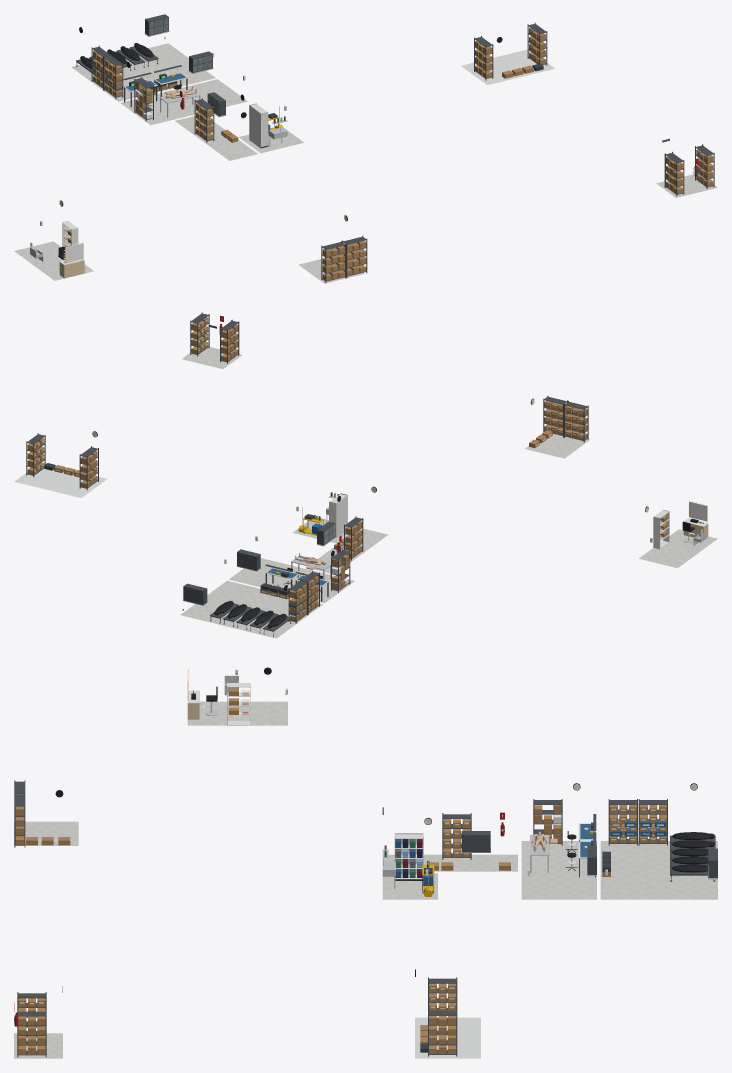
The model's file is 30_n2_servicios_y_bodegas.glb.
The picture shows the model from 3 angles, top to bottom: view 1: azimuth 30°, elevation 25°; view 2: azimuth 150°, elevation 25°; view 3: azimuth 270°, elevation 25°; orthographic projection. The views are drawn at different scales.
Visible parts, largest first — view 1: anaquel_rotulado (×9), piso · Bodega de simuladores, piso · Taller de ingeniería biomédica · mantenimiento de sim, piso · Bodega de simulación háptica, piso · Bodega y carga de cascos, piso · Moulage y preparación de escenarios, estacion_carga (×2), anaquel_uniformes, tocador_moulage, anaquel_metalico, piso · Ropería, séptico e intendencia, piso · Bodega de UCI; view 2: anaquel_rotulado (×8), piso · Bodega de simuladores, piso · Taller de ingeniería biomédica · mantenimiento de sim, piso · Moulage y preparación de escenarios, piso · Bodega de simulación háptica, piso · Archivo y consumibles, anaquel_metalico, tocador_moulage, anaquel_uniformes, piso · Bodega y carga de cascos, estante_protesis, piso · Bodega de UCI; view 3: anaquel_rotulado (×7), piso · Bodega de simuladores, piso · Taller de ingeniería biomédica · mantenimiento de sim, piso · Moulage y preparación de escenarios, piso · Bodega de simulación háptica, anaquel_uniformes, piso · Bodega y carga de cascos, piso · Archivo y consumibles, anaquel_metalico, piso · Ropería, séptico e intendencia, estante_protesis, piso · Bodega de UCI (+1 smaller).
Boxes of the visible parts, x1,y1,x2,y2 form: anaquel_rotulado (×9): [91, 22, 714, 282]; piso · Bodega de simuladores: [71, 43, 215, 101]; piso · Taller de ingeniería biomédica · mantenimiento de sim: [120, 79, 247, 125]; piso · Bodega de simulación háptica: [461, 49, 554, 85]; piso · Bodega y carga de cascos: [175, 116, 257, 160]; piso · Moulage y preparación de escenarios: [14, 241, 93, 280]; estacion_carga (×2): [144, 14, 213, 73]; anaquel_uniformes: [249, 103, 268, 148]; tocador_moulage: [59, 241, 84, 278]; anaquel_metalico: [134, 77, 153, 121]; piso · Ropería, séptico e intendencia: [239, 127, 303, 153]; piso · Bodega de UCI: [656, 173, 717, 197]; anaquel_rotulado (×8): [26, 312, 588, 623]; piso · Bodega de simuladores: [180, 580, 323, 638]; piso · Taller de ingeniería biomédica · mantenimiento de sim: [229, 558, 354, 602]; piso · Moulage y preparación de escenarios: [639, 529, 717, 568]; piso · Bodega de simulación háptica: [14, 464, 106, 497]; piso · Archivo y consumibles: [525, 433, 589, 458]; anaquel_metalico: [331, 548, 350, 592]; tocador_moulage: [683, 500, 708, 537]; anaquel_uniformes: [329, 493, 347, 537]; piso · Bodega y carga de cascos: [314, 528, 388, 573]; estante_protesis: [653, 509, 669, 549]; piso · Bodega de UCI: [182, 347, 241, 369]; anaquel_rotulado (×7): [14, 793, 667, 1057]; piso · Bodega de simuladores: [600, 841, 717, 899]; piso · Taller de ingeniería biomédica · mantenimiento de sim: [521, 841, 596, 899]; piso · Moulage y preparación de escenarios: [187, 701, 287, 725]; piso · Bodega de simulación háptica: [415, 1017, 480, 1058]; anaquel_uniformes: [394, 833, 423, 880]; piso · Bodega y carga de cascos: [382, 854, 517, 871]; piso · Archivo y consumibles: [14, 821, 78, 845]; anaquel_metalico: [533, 799, 562, 845]; piso · Ropería, séptico e intendencia: [382, 873, 437, 899]; estante_protesis: [227, 682, 250, 725]; piso · Bodega de UCI: [14, 1033, 62, 1058].
Size of the model in its own units: 35.48 by 2.7 by 29.4.
Materials: 44 (3 with a texture image).
